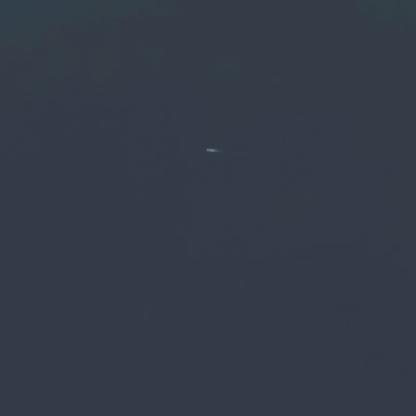ship: (198, 141, 235, 160)
